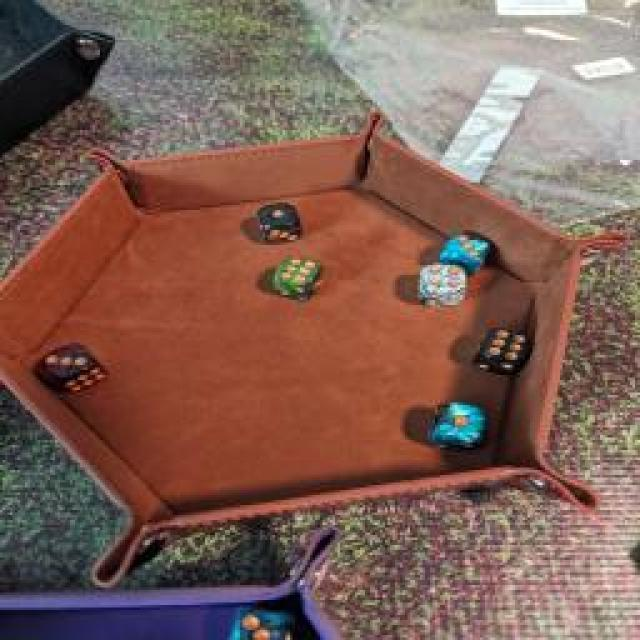dice_1: (421, 399, 489, 449), (252, 197, 308, 245)
dice_3: (39, 340, 111, 390), (228, 600, 310, 640), (438, 228, 494, 274)
dice_4: (414, 262, 474, 306)
dice_6: (470, 328, 535, 378), (270, 254, 325, 301)
